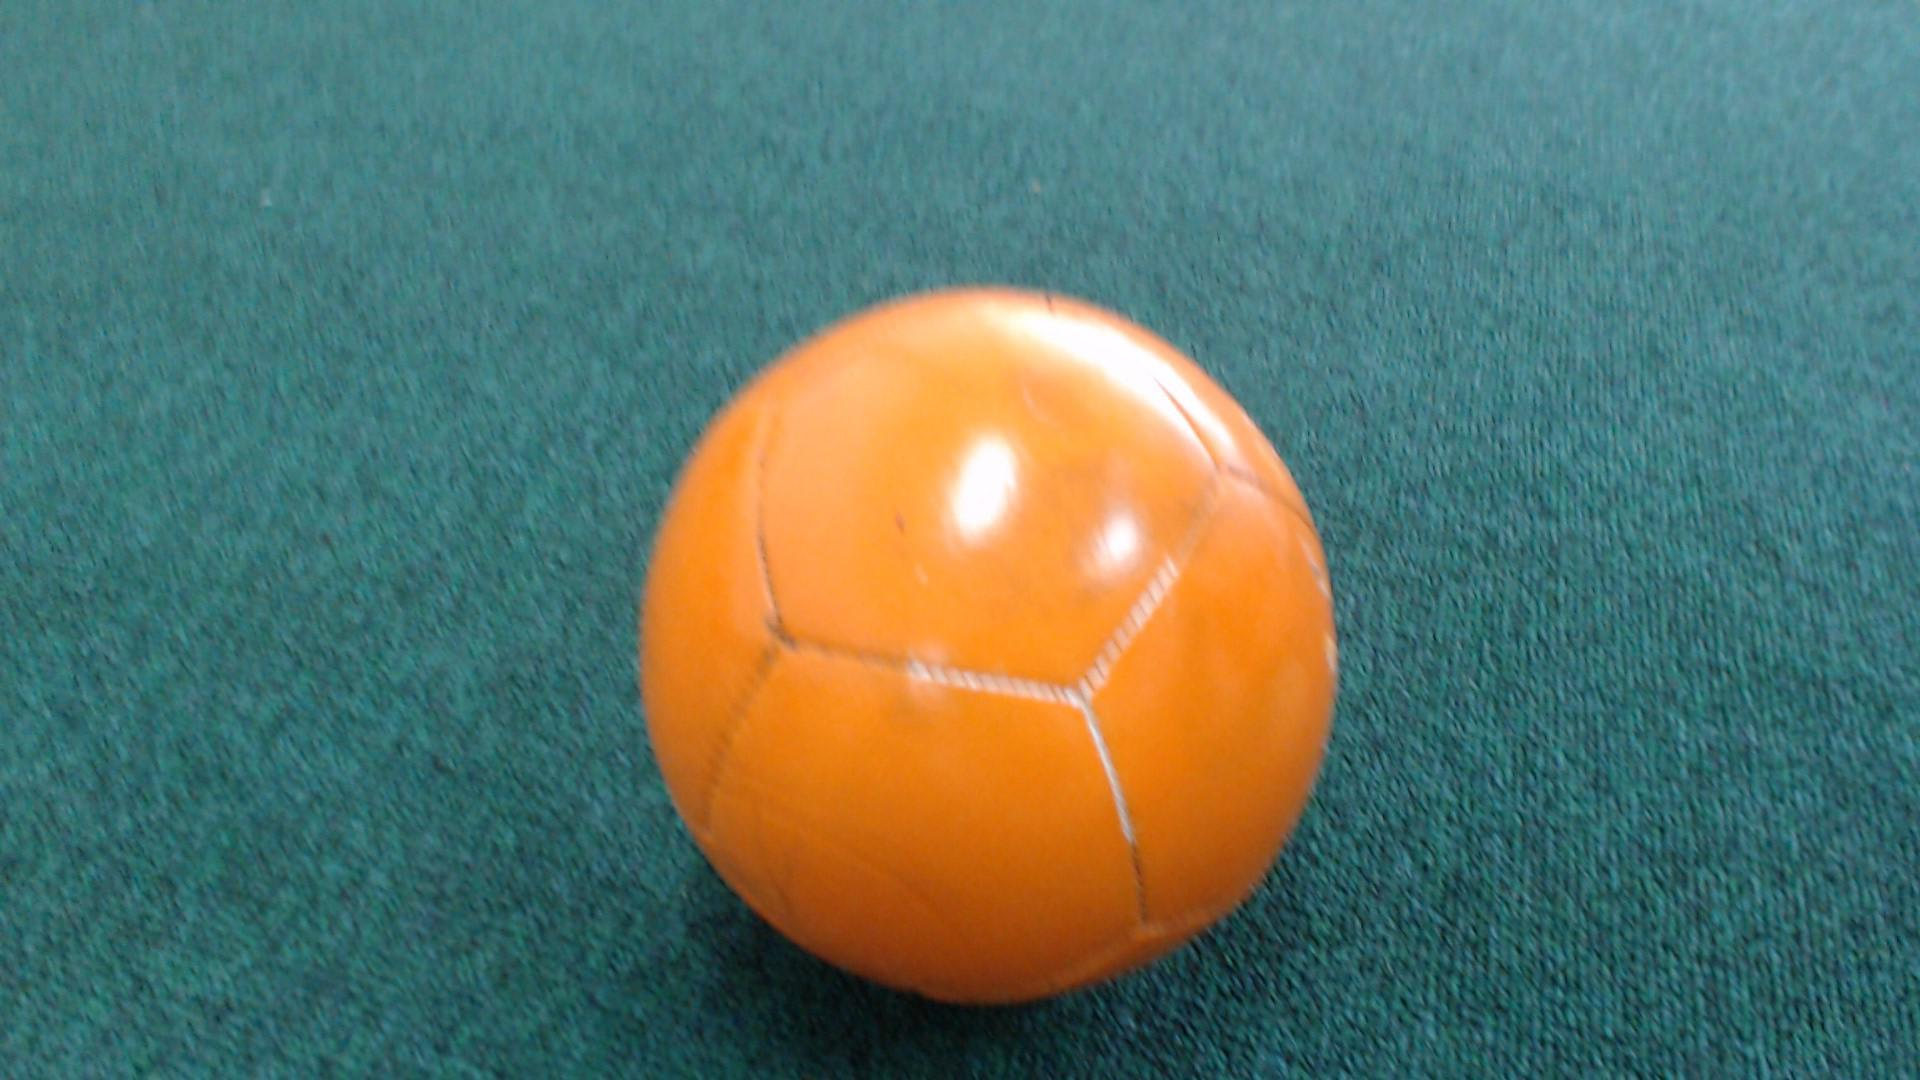bola: (608, 276, 1389, 1026)
